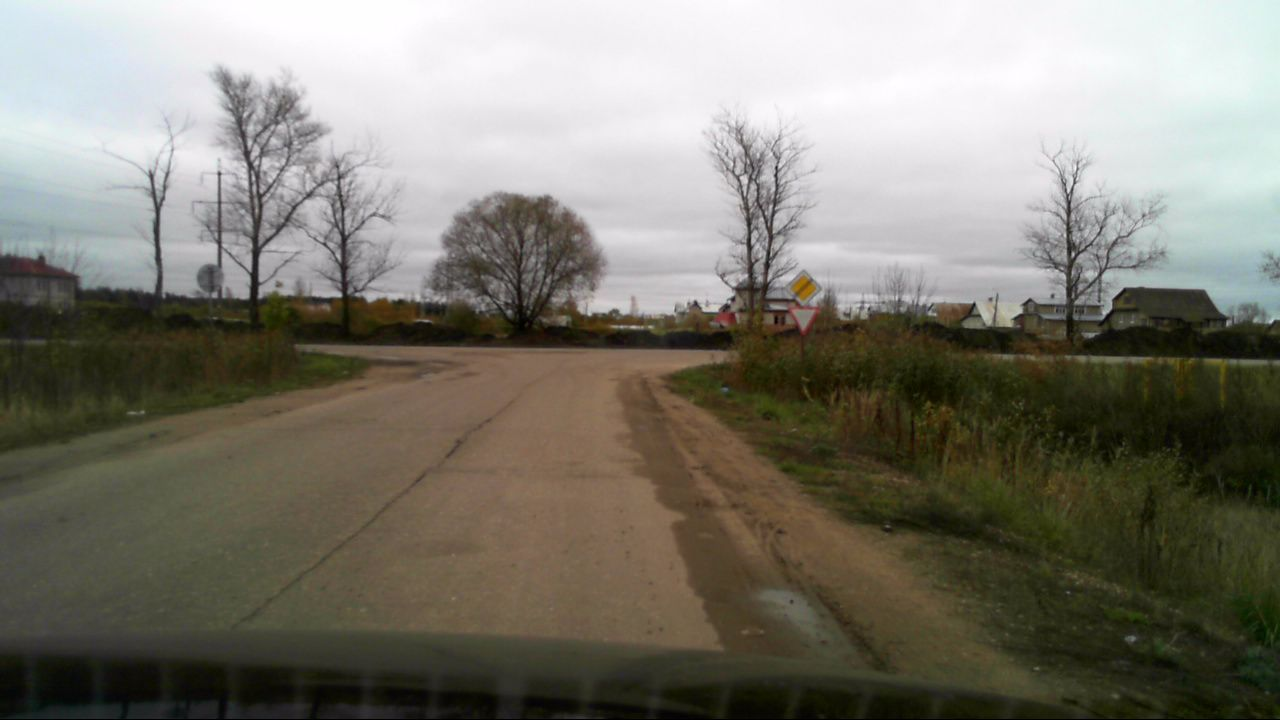main road: (785, 271, 822, 305)
